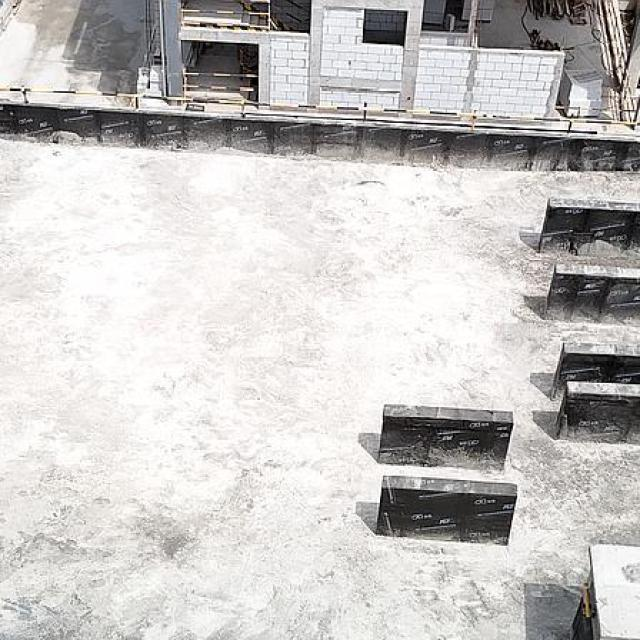edge_guardrail: (0, 84, 640, 134), (556, 77, 636, 122), (179, 0, 271, 31), (182, 67, 258, 97), (606, 0, 627, 67), (584, 583, 593, 640)
